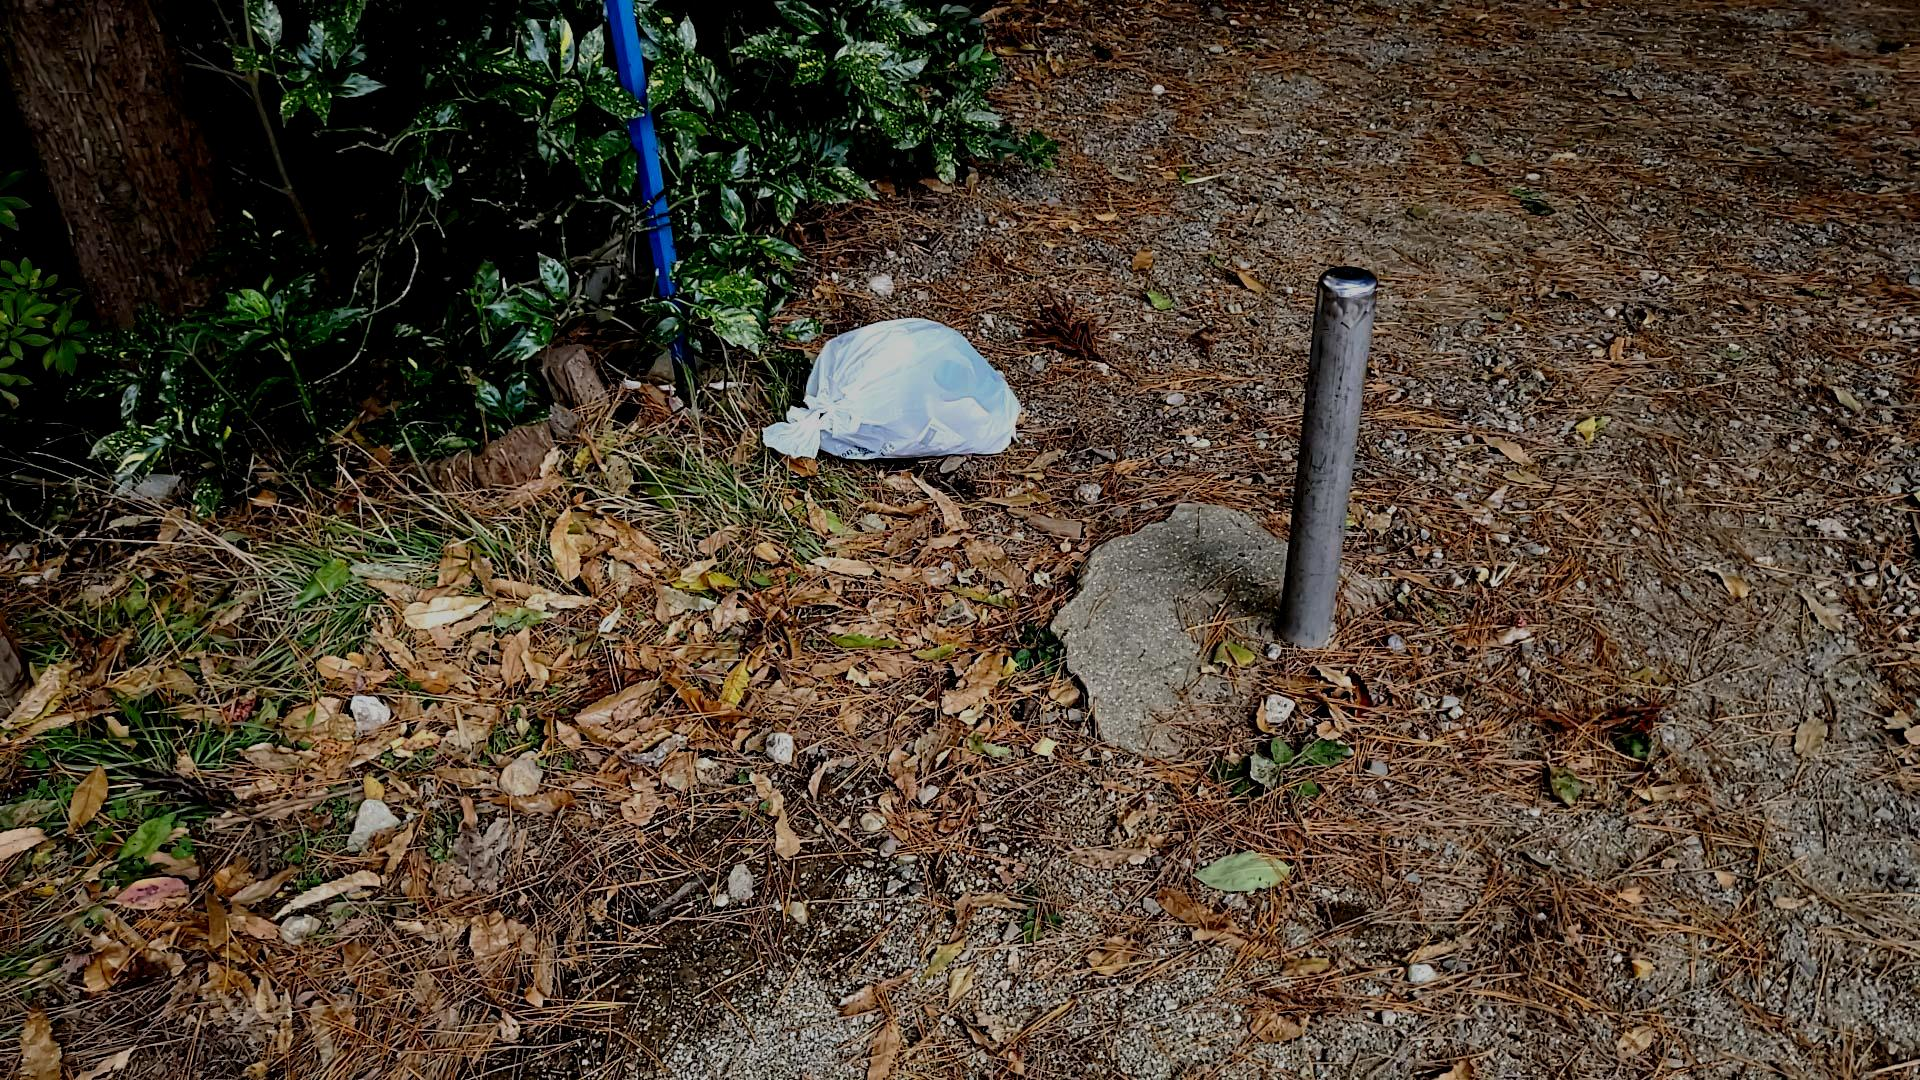white_bag: (750, 305, 1033, 497)
